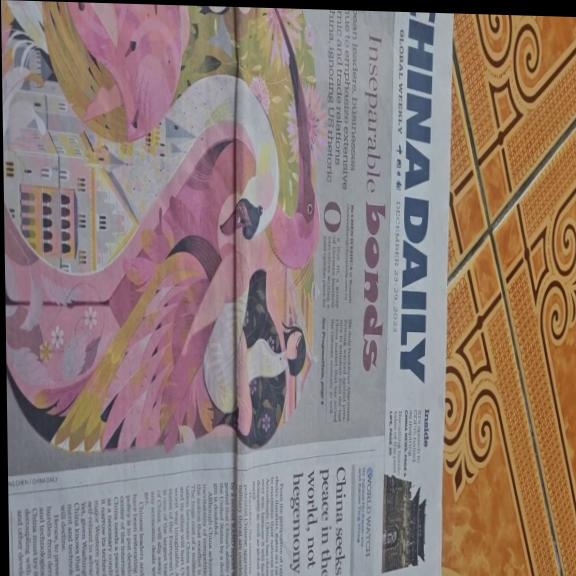Kertas: (8, 3, 439, 576)
